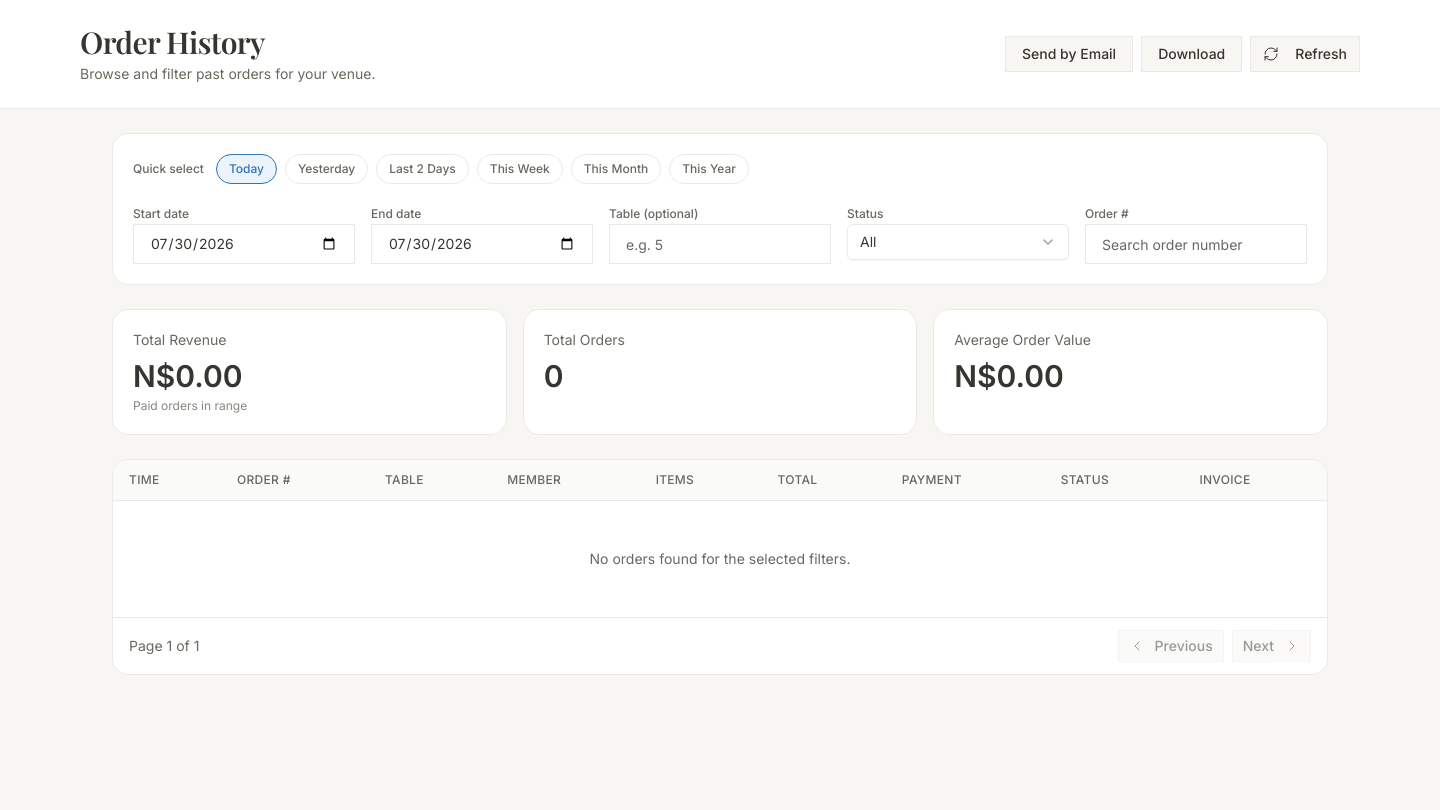
quick-select presets › This Week populates both fields and refreshes the results
Click the button "This Week".
click(520, 169)  # box [477,154,563,184]
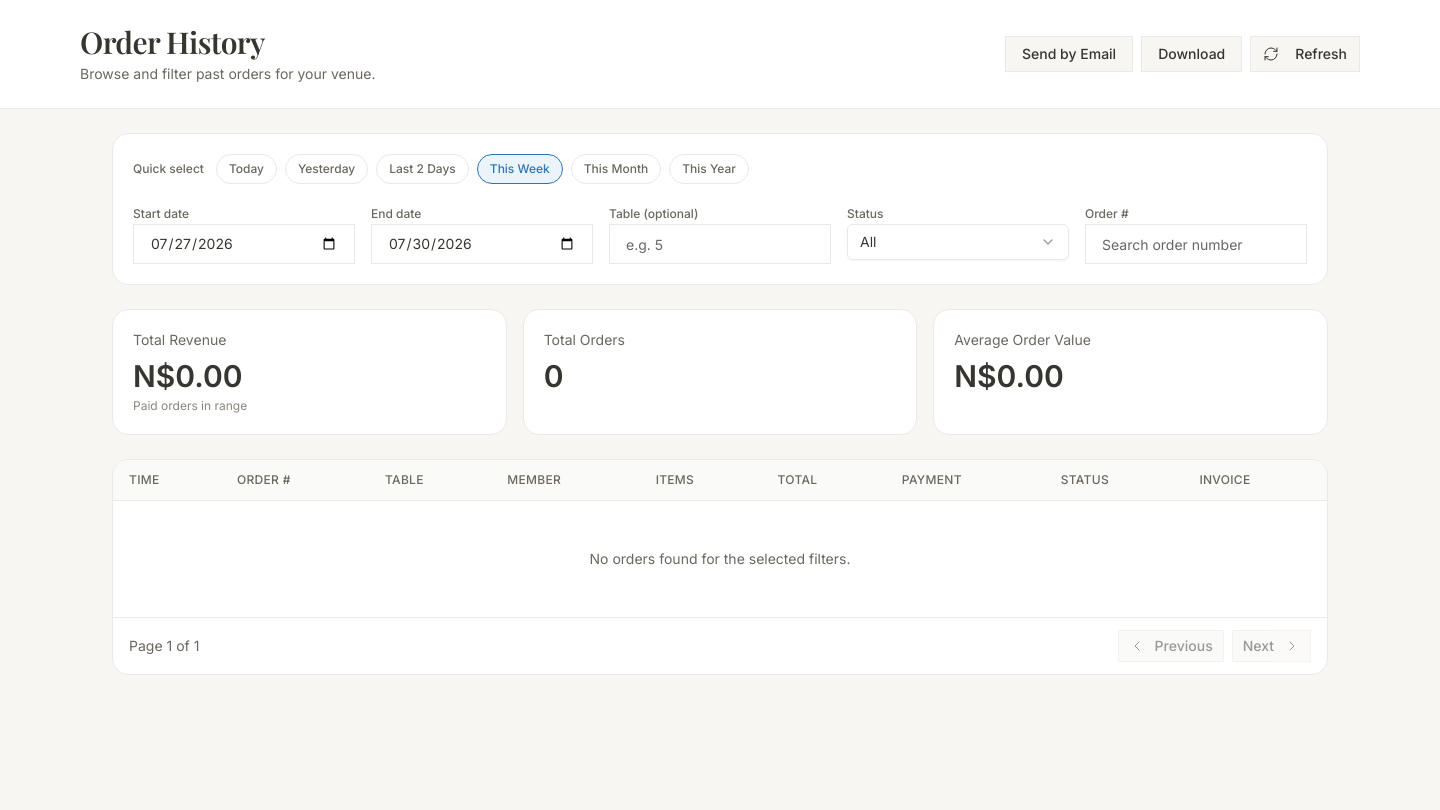
Expected: the date field below "End date" holds "2026-07-30", [371,224,593,264]
Expected: the date field below "Start date" holds "2026-07-27", [133,224,355,264]
